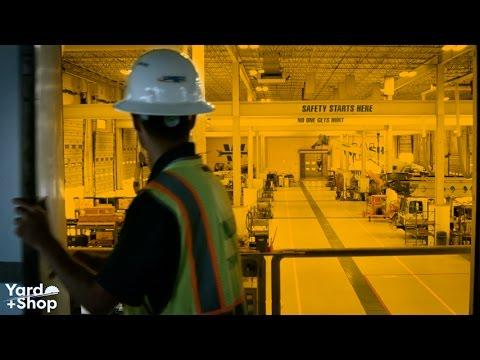helmet: (113, 50, 218, 117)
